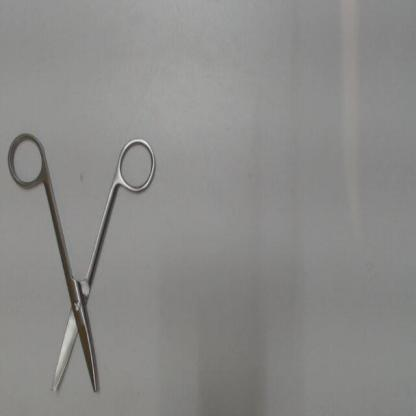Curved Mayo Scissors: (4, 124, 159, 403)
